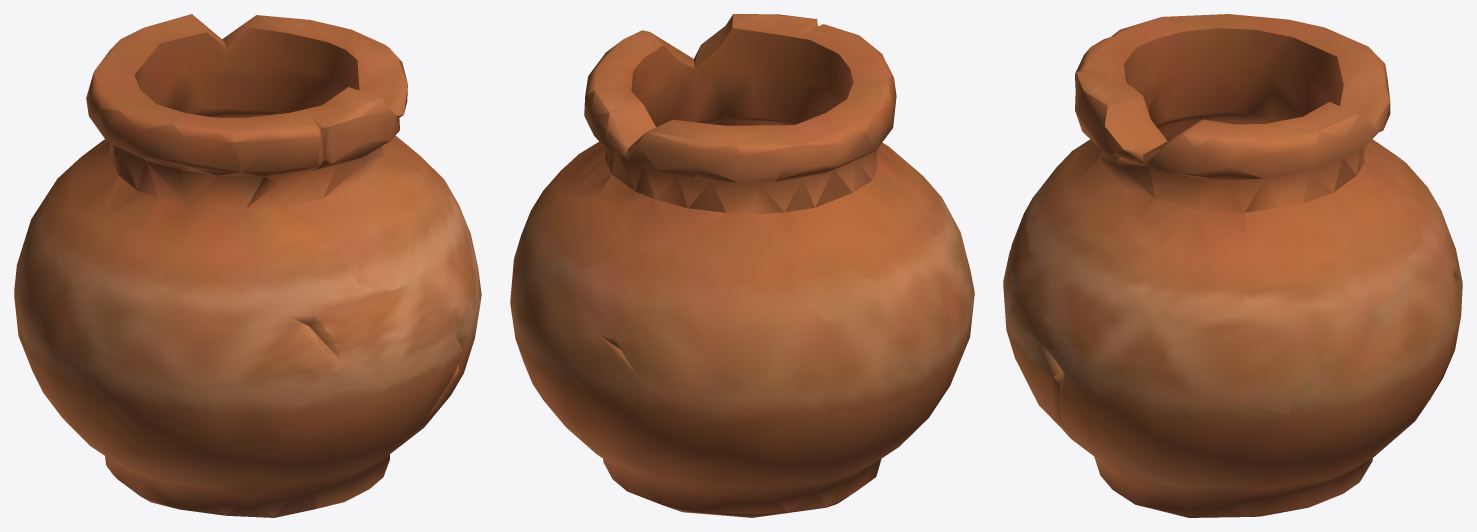
File: jarron_1500.glb
3 views of the same model, side by side, from view 1: azimuth 30°, elevation 25°; view 2: azimuth 150°, elevation 25°; view 3: azimuth 270°, elevation 25° (orthographic).
Visible parts, largest first — view 1: jarron_malla; view 2: jarron_malla; view 3: jarron_malla.
Part boxes in pixels (bbox=[...]): jarron_malla: bbox=[14, 14, 481, 517]; jarron_malla: bbox=[510, 14, 974, 517]; jarron_malla: bbox=[1003, 14, 1462, 517].
Size of the model in its own units: 0.1751 by 0.1622 by 0.1714.
1 material, 1 textured.
